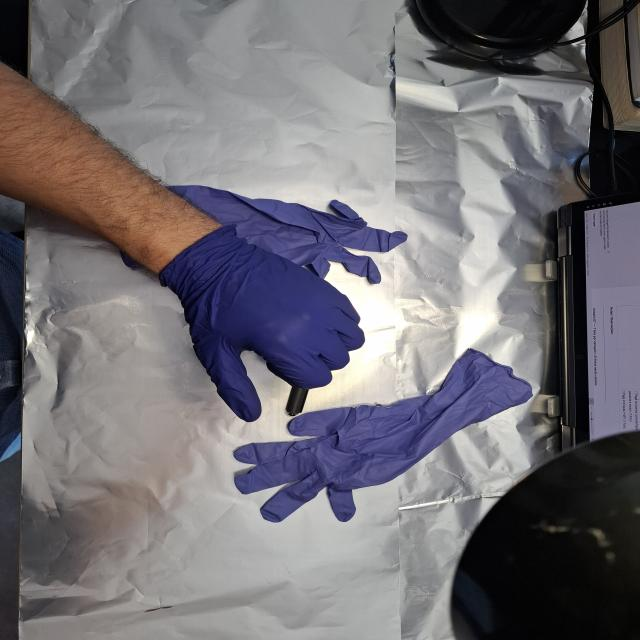glove_on: (157, 222, 368, 424)
